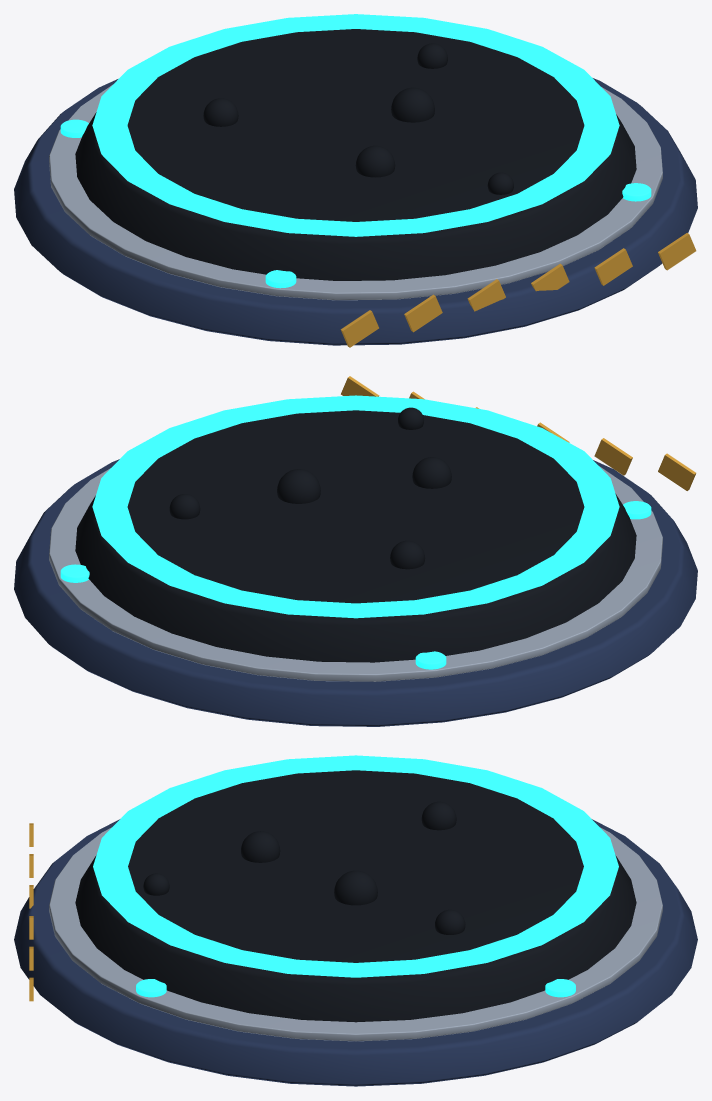
The model's file is trap_tar_full.glb.
3 renders of one model, top to bottom at view 1: azimuth 30°, elevation 25°; view 2: azimuth 150°, elevation 25°; view 3: azimuth 270°, elevation 25°, orthographic.
Visible parts, largest first — view 1: trap_tar_pool, trap_tar_plate, trap_tar_sheen, trap_tar_plate_rim, trap_tar_hazard, trap_tar_bubble0, trap_tar_bubble1, trap_tar_bubble2, trap_tar_bubble3; view 2: trap_tar_pool, trap_tar_plate, trap_tar_sheen, trap_tar_plate_rim, trap_tar_hazard, trap_tar_bubble0, trap_tar_bubble1, trap_tar_bubble2, trap_tar_bubble3; view 3: trap_tar_pool, trap_tar_plate, trap_tar_sheen, trap_tar_plate_rim, trap_tar_bubble0, trap_tar_bubble1, trap_tar_bubble2, trap_tar_hazard, trap_tar_bubble3.
Boxes of the visible parts, <box> form: trap_tar_pool: <box>75,29,636,280</box>; trap_tar_plate: <box>14,78,697,345</box>; trap_tar_sheen: <box>92,14,619,236</box>; trap_tar_plate_rim: <box>49,84,662,300</box>; trap_tar_hazard: <box>340,233,696,347</box>; trap_tar_bubble0: <box>391,87,434,122</box>; trap_tar_bubble1: <box>355,145,395,177</box>; trap_tar_bubble2: <box>203,98,238,126</box>; trap_tar_bubble3: <box>417,43,447,68</box>; trap_tar_pool: <box>75,410,636,662</box>; trap_tar_plate: <box>14,459,697,726</box>; trap_tar_sheen: <box>92,395,619,618</box>; trap_tar_plate_rim: <box>49,466,662,681</box>; trap_tar_hazard: <box>341,376,696,490</box>; trap_tar_bubble0: <box>277,469,320,503</box>; trap_tar_bubble1: <box>412,457,451,488</box>; trap_tar_bubble2: <box>390,540,425,569</box>; trap_tar_bubble3: <box>169,494,200,519</box>; trap_tar_pool: <box>75,770,636,1022</box>; trap_tar_plate: <box>14,819,697,1086</box>; trap_tar_sheen: <box>93,755,618,977</box>; trap_tar_plate_rim: <box>49,827,662,1041</box>; trap_tar_bubble0: <box>334,870,377,905</box>; trap_tar_bubble1: <box>241,831,280,862</box>; trap_tar_bubble2: <box>421,801,456,830</box>; trap_tar_hazard: <box>29,823,33,1001</box>; trap_tar_bubble3: <box>435,909,465,934</box>.
Size of the model in its own units: 1.56 by 0.25 by 1.56.
